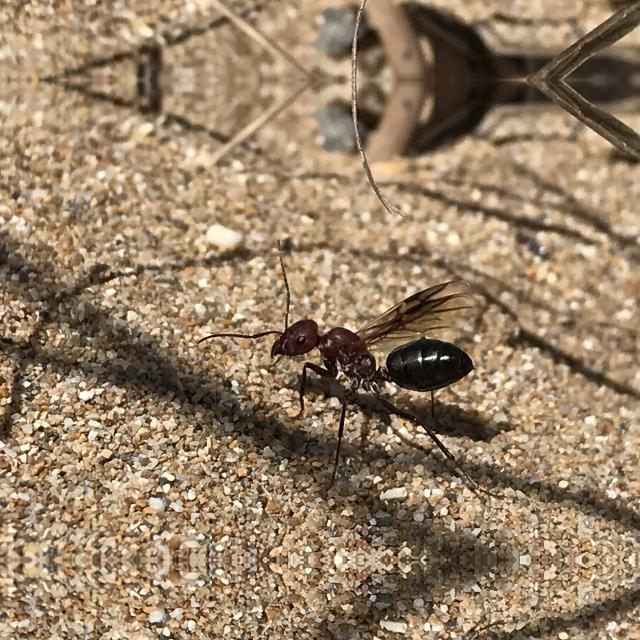Cataglyphis: (240, 290, 486, 416)
